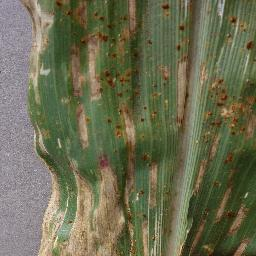Gray_Leaf_Spot: (59, 0, 256, 97), (75, 174, 256, 256), (23, 126, 75, 256), (201, 97, 255, 175), (20, 0, 59, 105), (105, 100, 139, 141), (123, 142, 159, 175), (174, 98, 188, 169), (76, 99, 91, 149), (140, 103, 159, 126), (97, 152, 115, 175)
